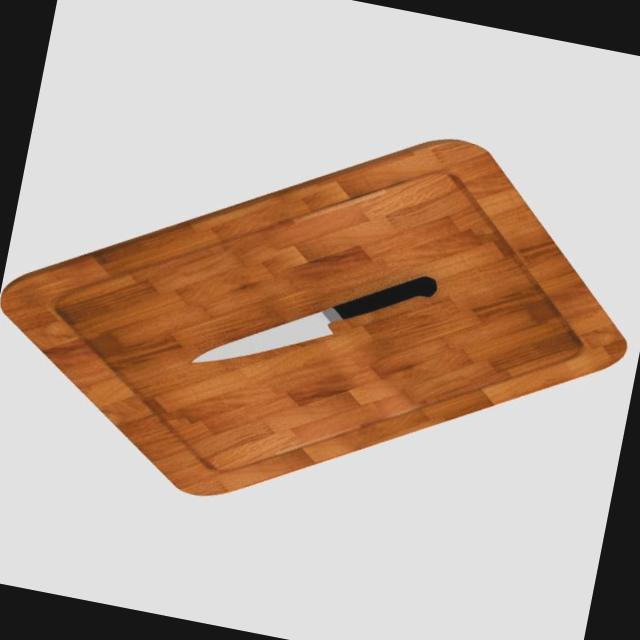knife: (330, 260, 438, 336)
